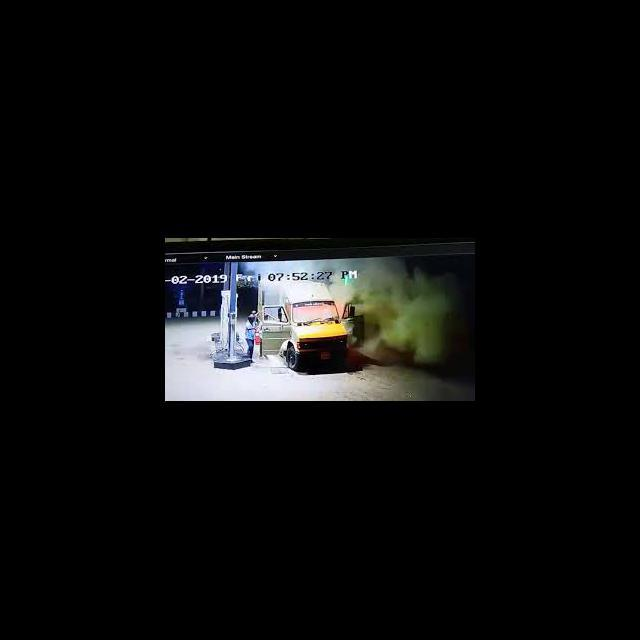Smoke: (362, 266, 457, 364)
